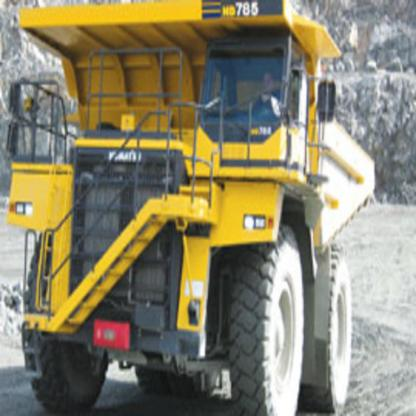dump_truck: (10, 3, 375, 407)
